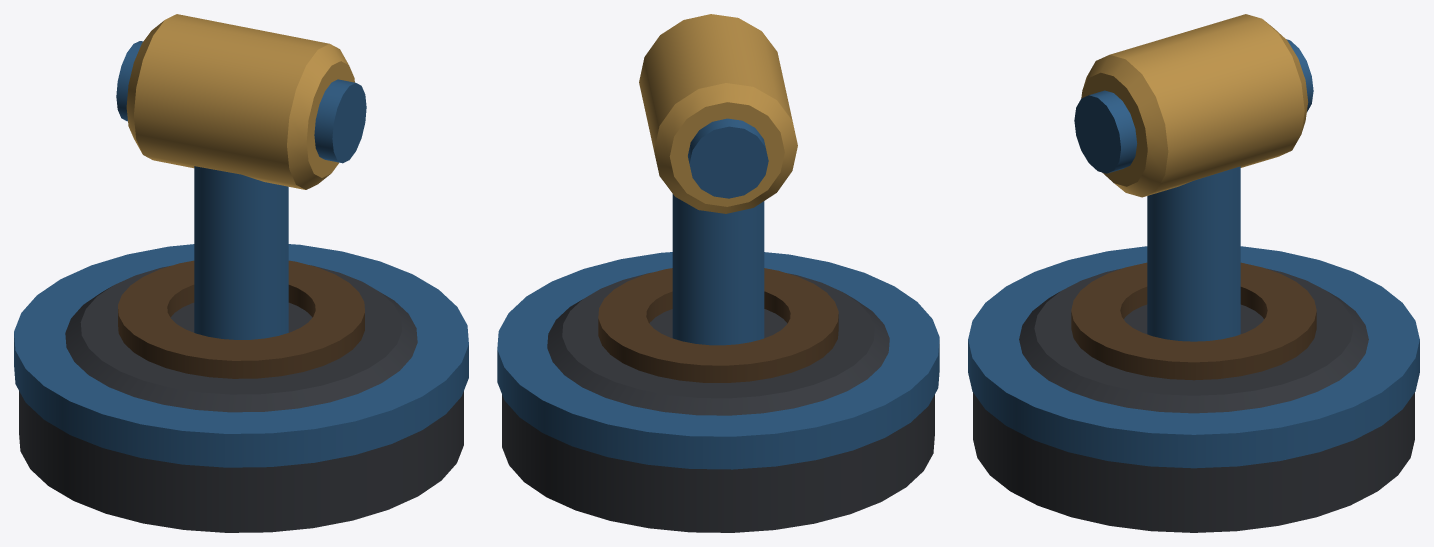
The model's file is rm2_leg_rl_foot.obj.
3 views of the same model, side by side, from view 1: azimuth 30°, elevation 25°; view 2: azimuth 150°, elevation 25°; view 3: azimuth 270°, elevation 25° (orthographic). The views are drawn at different scales.
Visible parts, largest first — view 1: rm2_leg_rl_foot; view 2: rm2_leg_rl_foot; view 3: rm2_leg_rl_foot.
Boxes of the visible parts, x1,y1,x2,y2 form: rm2_leg_rl_foot: [14, 14, 468, 532]; rm2_leg_rl_foot: [497, 14, 939, 532]; rm2_leg_rl_foot: [968, 14, 1419, 532].
Bounding box in the file's own units: 0.184 × 0.18 × 0.184.
